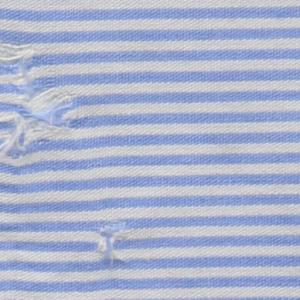Damage: (1, 35, 95, 174), (90, 218, 135, 273)
